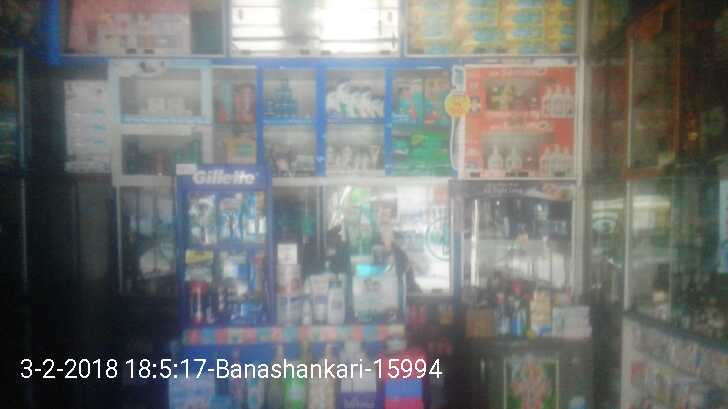beauty: (187, 189, 219, 245), (219, 190, 244, 241), (244, 190, 267, 241), (336, 76, 351, 118), (360, 85, 371, 119), (369, 95, 379, 118)
pharmacy: (424, 75, 449, 127), (410, 132, 453, 162), (398, 76, 422, 126), (278, 76, 289, 91)
